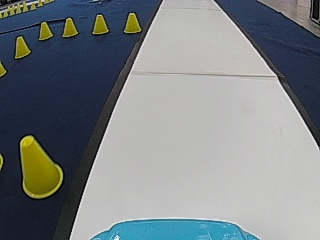cone: (18, 135, 62, 197), (91, 14, 109, 35), (123, 12, 141, 33), (14, 36, 30, 58), (61, 17, 78, 37), (38, 21, 53, 40)
